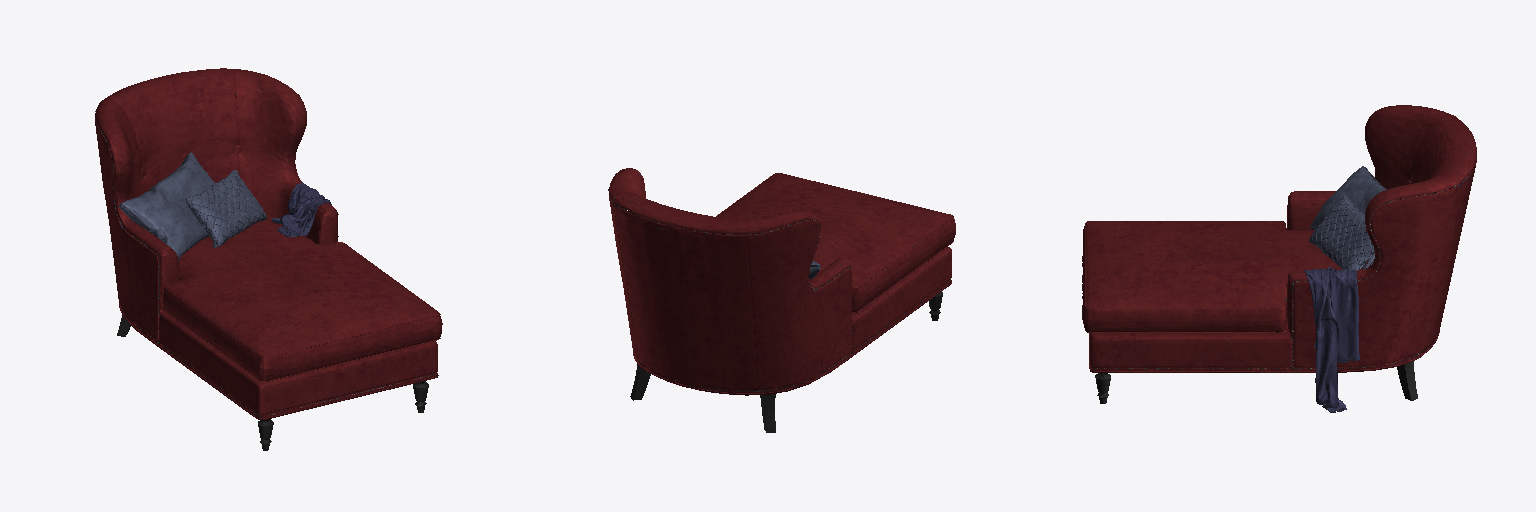
3 views of the same model, side by side, from view 1: azimuth 30°, elevation 25°; view 2: azimuth 150°, elevation 25°; view 3: azimuth 270°, elevation 25° (orthographic).
Parts seen in each view (by area): view 1: solid_002, solid_004, solid_005, solid_003; view 2: solid_002, solid_003; view 3: solid_002, solid_005, solid_004, solid_003.
Boxes of the visible parts, x1,y1,x2,y2 form: solid_002: [95, 68, 442, 419]; solid_004: [119, 152, 266, 259]; solid_005: [272, 183, 331, 236]; solid_003: [117, 316, 428, 450]; solid_002: [609, 168, 955, 395]; solid_003: [630, 292, 942, 432]; solid_002: [1082, 105, 1476, 372]; solid_005: [1304, 267, 1359, 412]; solid_004: [1309, 166, 1386, 270]; solid_003: [1095, 361, 1417, 403].
Size of the model in its own units: 0.9595 by 1.03 by 1.67.
1 materials, 1 textured.